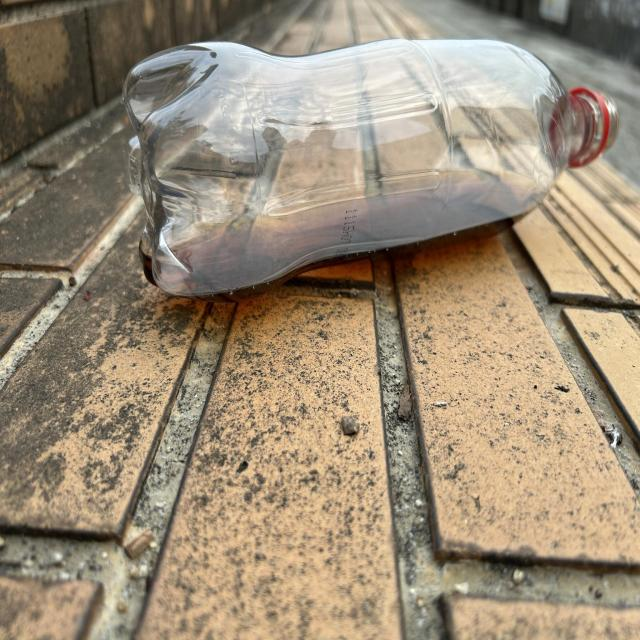low: (123, 39, 618, 298)
